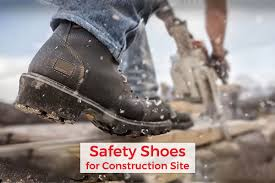Shoes: (19, 31, 156, 148)
